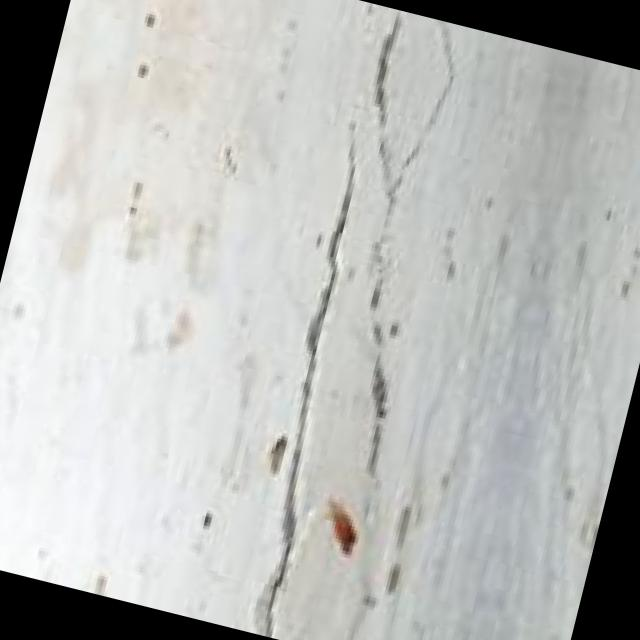crack: (159, 0, 490, 640)
